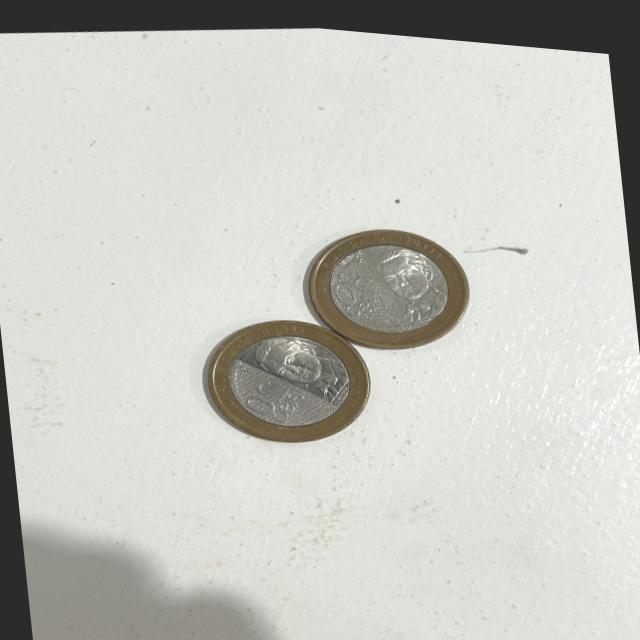20_New_Front: (236, 365, 307, 427), (332, 262, 383, 315)
